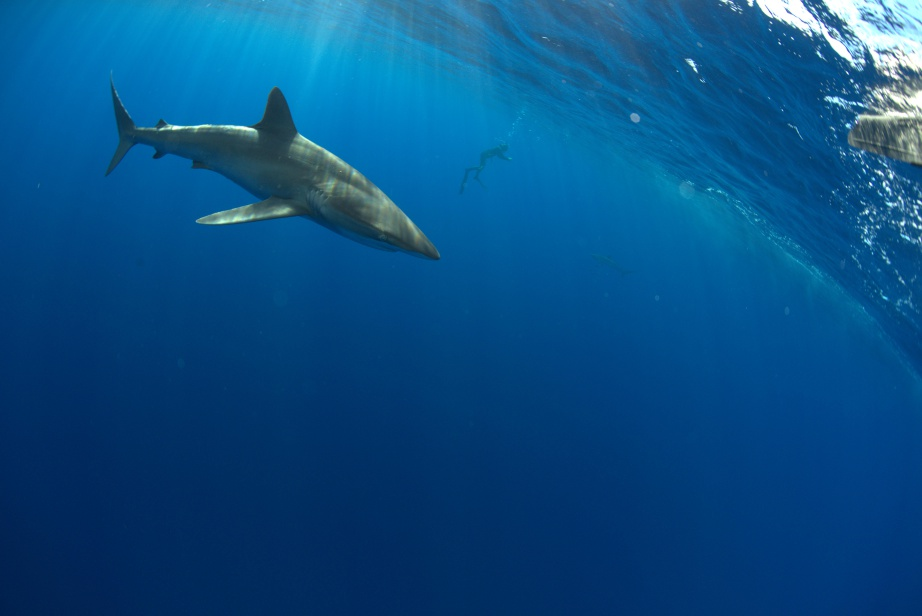Sedoso: (68, 59, 466, 284)
